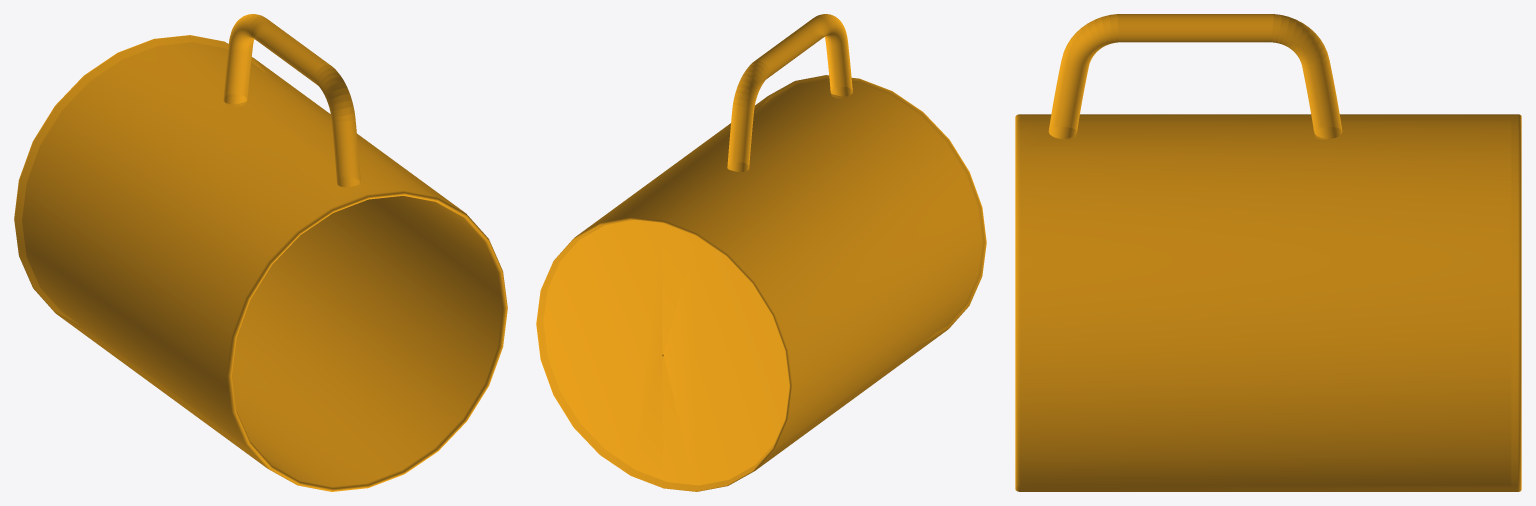
Rendered from model_align.obj.
The picture shows the model from 3 angles, left to right: view 1: azimuth 30°, elevation 25°; view 2: azimuth 150°, elevation 25°; view 3: azimuth 270°, elevation 25°; orthographic projection. The views are drawn at different scales.
Visible parts, largest first — view 1: mesh1_mesh1-geometry, mesh2_mesh2-geometry; view 2: mesh1_mesh1-geometry, mesh2_mesh2-geometry; view 3: mesh1_mesh1-geometry, mesh2_mesh2-geometry.
Part boxes in pixels (x1=…): mesh1_mesh1-geometry: x1=14, y1=35, x2=507, y2=491; mesh2_mesh2-geometry: x1=223, y1=14, x2=360, y2=187; mesh1_mesh1-geometry: x1=536, y1=75, x2=986, y2=491; mesh2_mesh2-geometry: x1=727, y1=14, x2=852, y2=171; mesh1_mesh1-geometry: x1=1015, y1=114, x2=1521, y2=491; mesh2_mesh2-geometry: x1=1048, y1=14, x2=1342, y2=139.
Size of the model in its own units: 0.0819 by 0.1095 by 0.1093.
